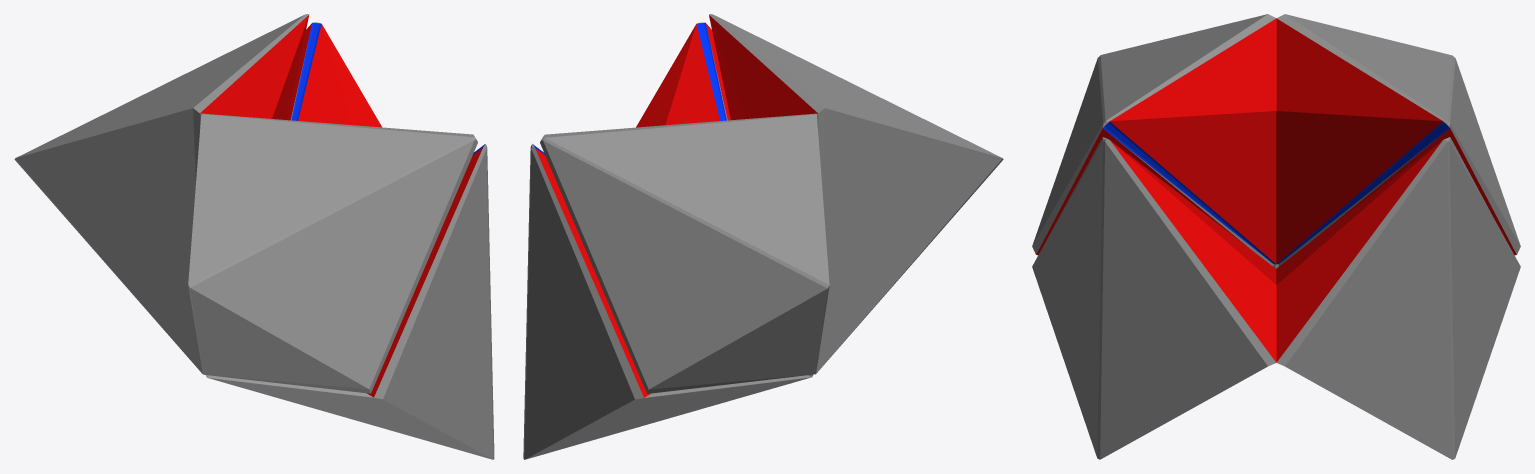
File: Prop_Skypad_PaperFortune_Closed.FBX
The picture shows the model from 3 angles, left to right: view 1: azimuth 30°, elevation 25°; view 2: azimuth 150°, elevation 25°; view 3: azimuth 270°, elevation 25°; orthographic projection.
Parts seen in each view (by area): view 1: Object007; view 2: Object007; view 3: Object007.
Boxes of the visible parts, x1=… form: Object007: x1=14, y1=14, x2=494, y2=459; Object007: x1=523, y1=14, x2=1003, y2=459; Object007: x1=1032, y1=14, x2=1520, y2=459.
Size of the model in its own units: 14.92 by 13.21 by 17.15.
